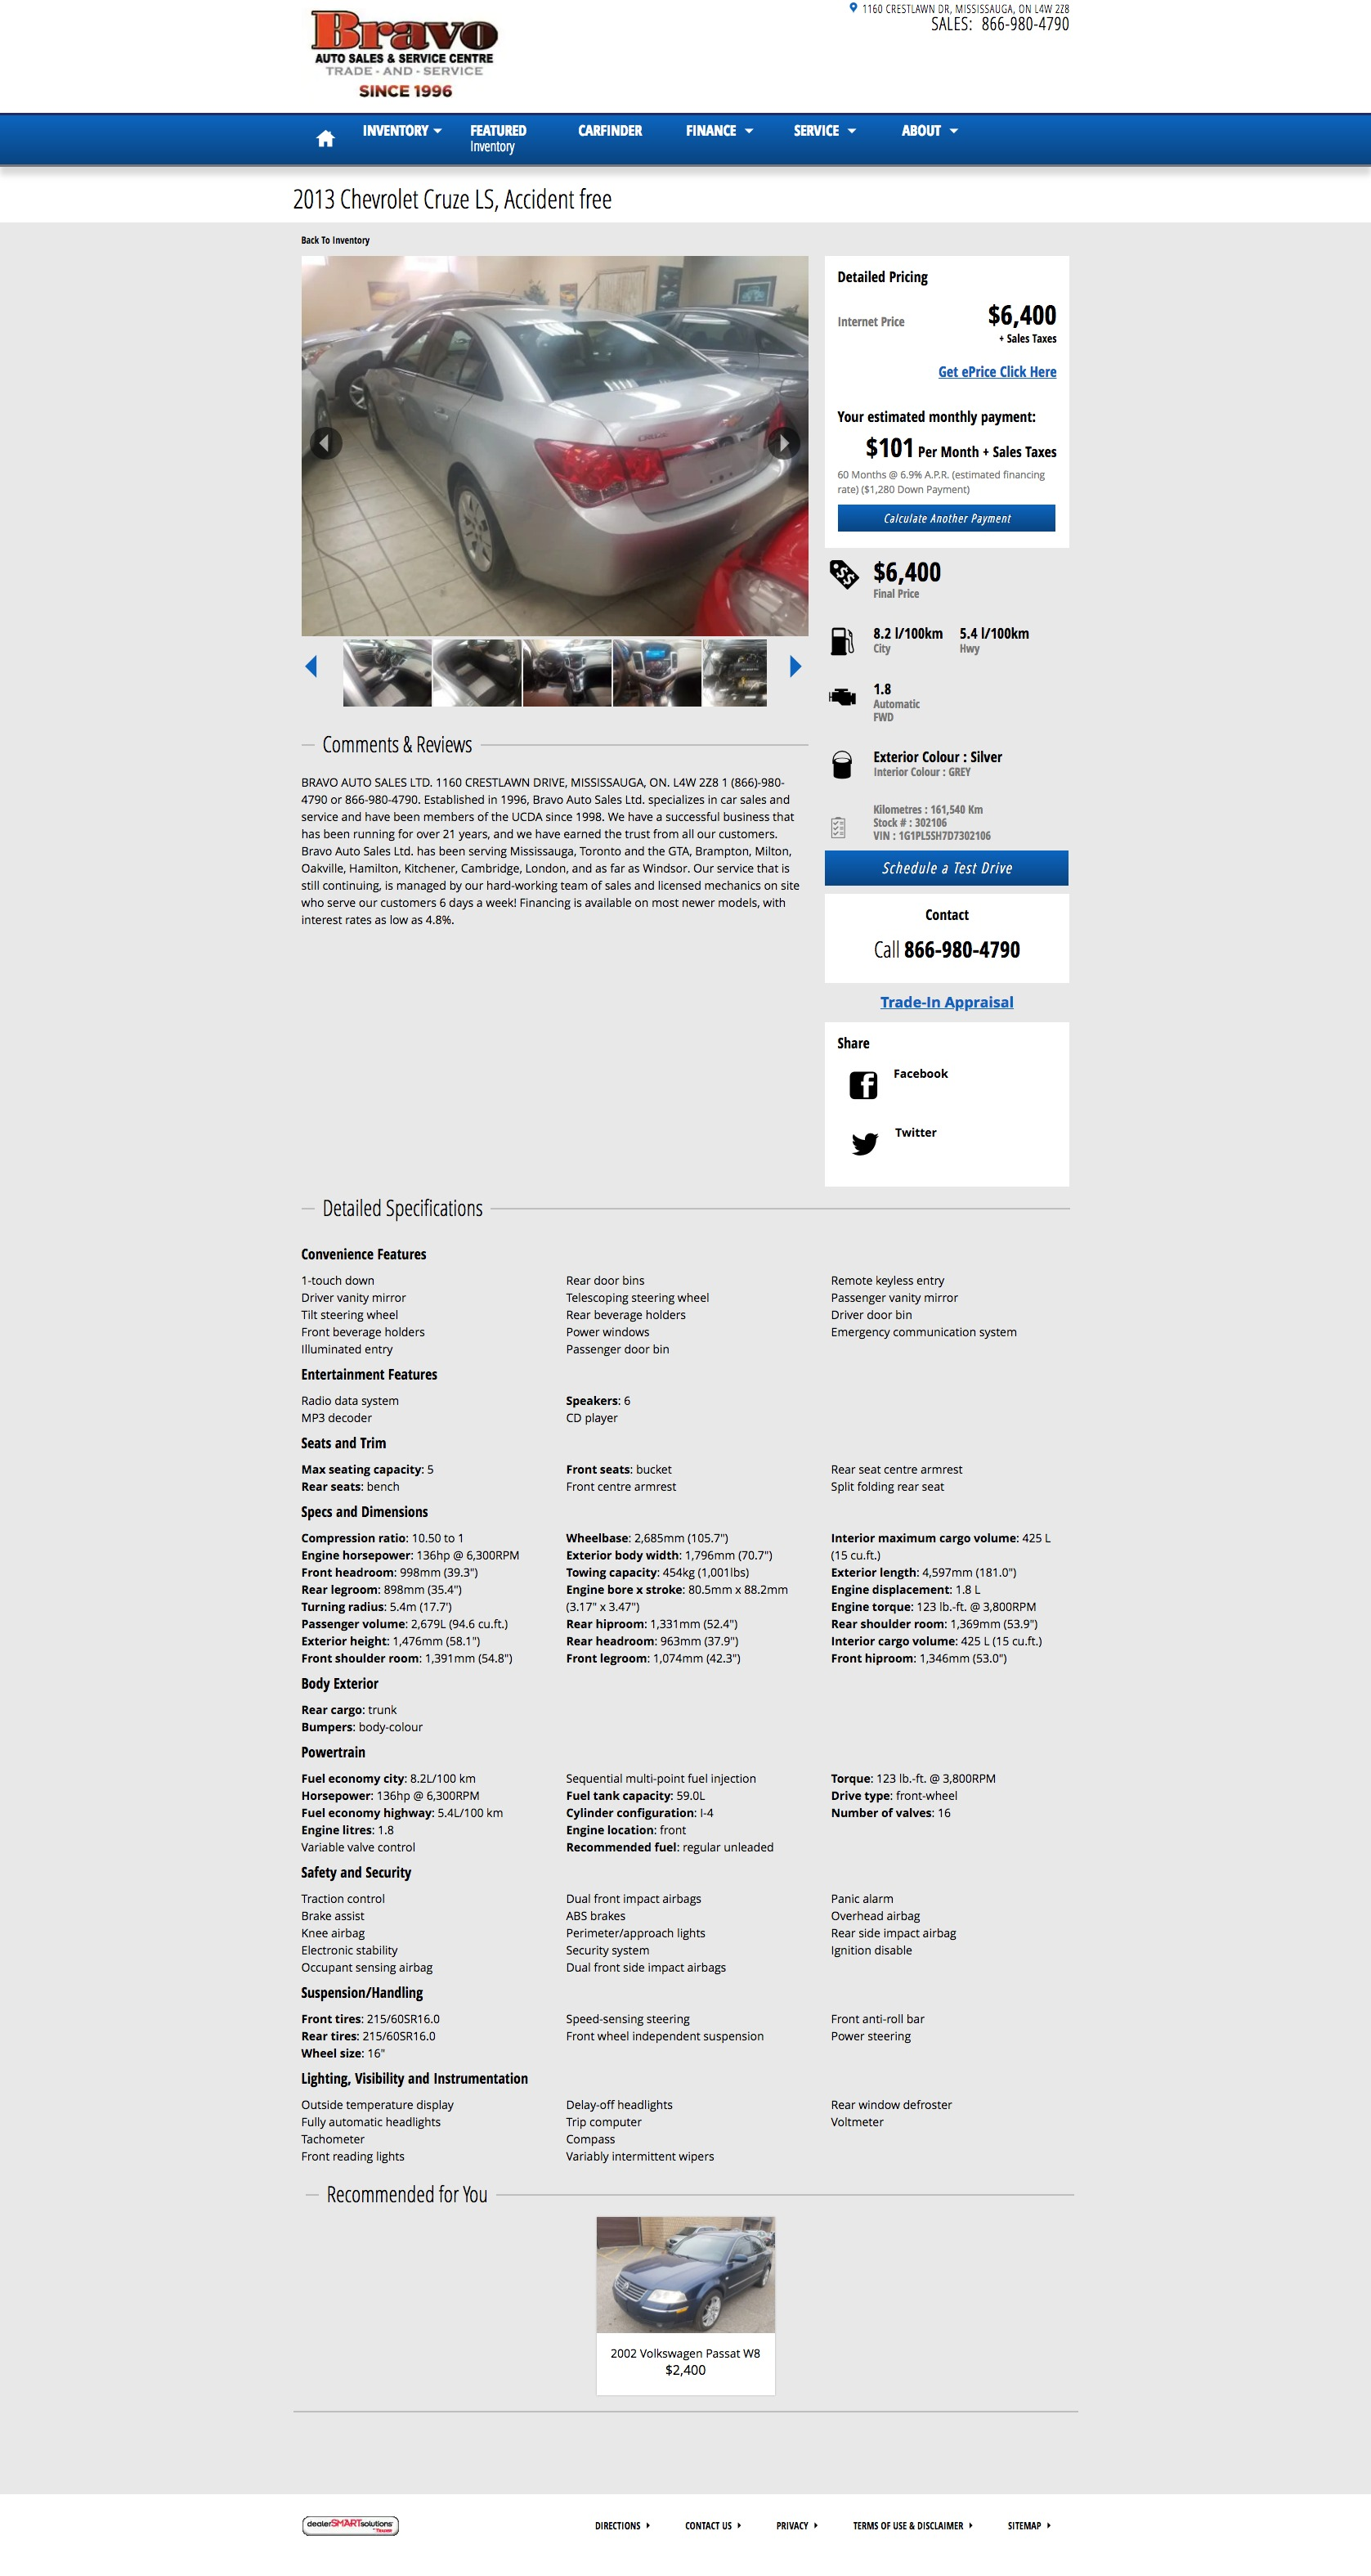car: (790, 656, 802, 678)
